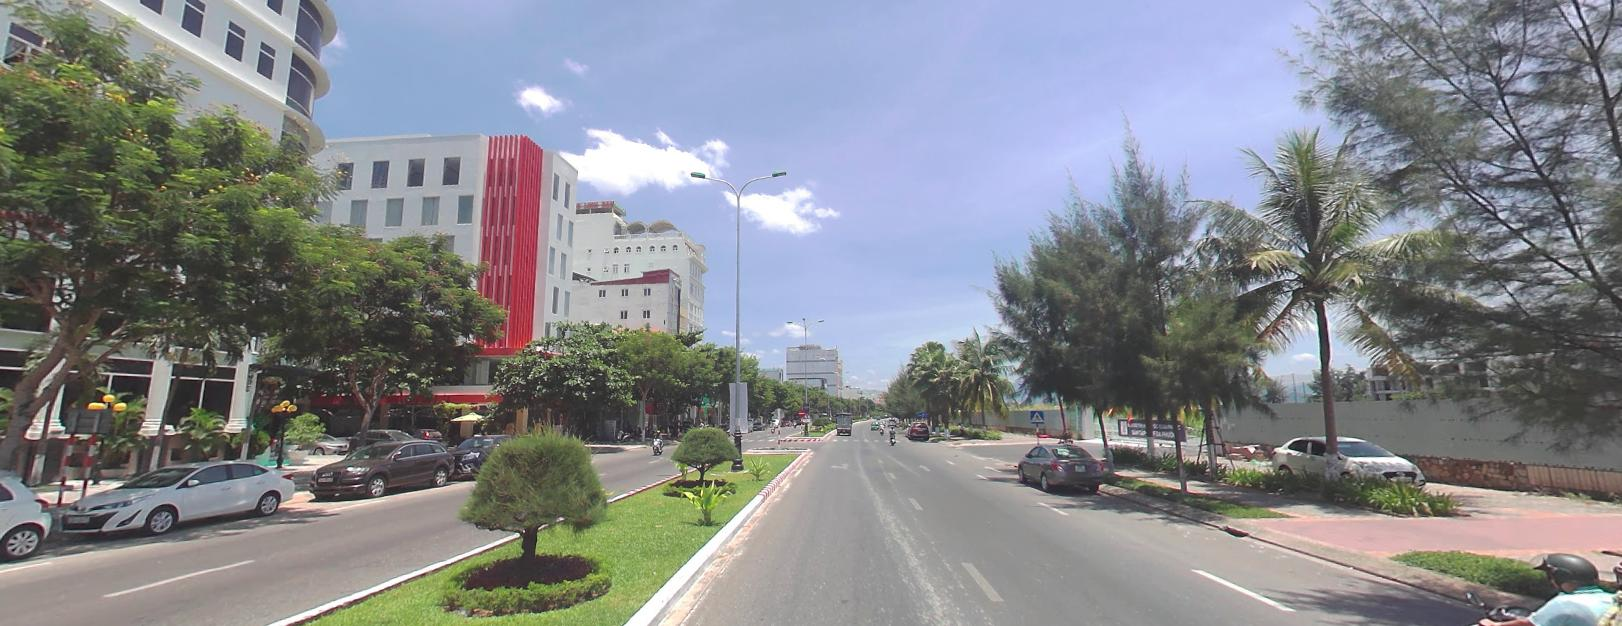Cam nguoc chieu: (797, 407, 804, 415)
